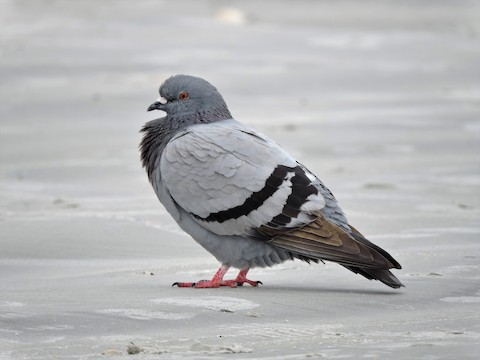pigeon: (133, 66, 409, 297)
